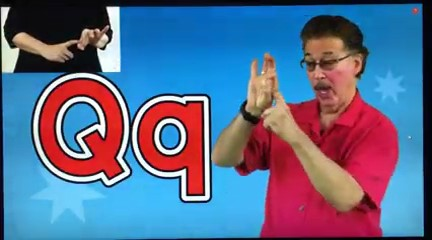Q: (240, 47, 304, 147)
